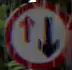Two way: (2, 3, 71, 69)
